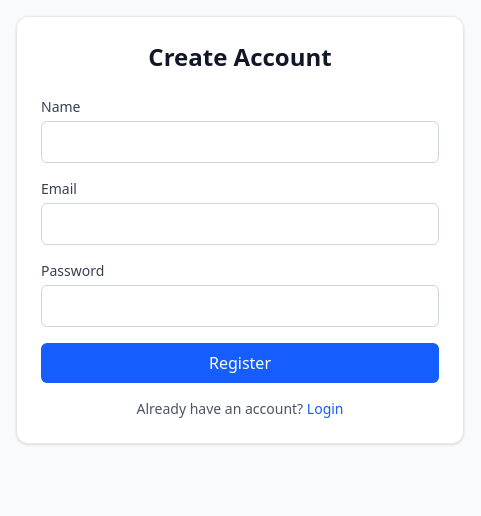
it: RegisterPage › failed registration › shows the server message, re-enables the button and does not redirect
Type "Test User" into the field below "Name" at (240, 142), box 41,121 -> 439,163
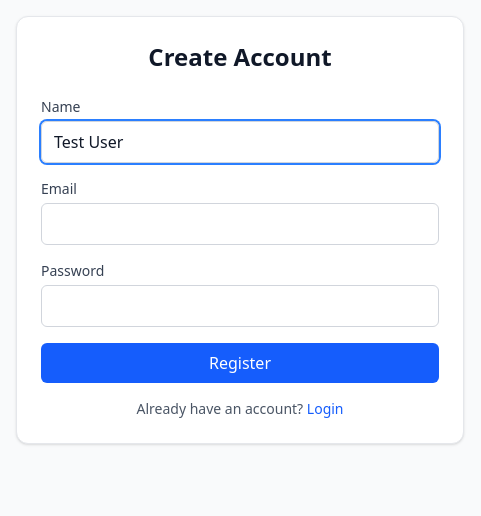
Type "test@example.com" into the field below "Email" at (240, 224), box 41,203 -> 439,245
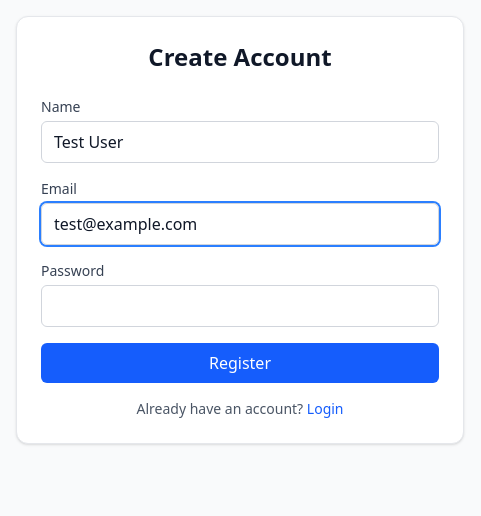
Type "secret123" into the password field at (240, 306), box 41,285 -> 439,327
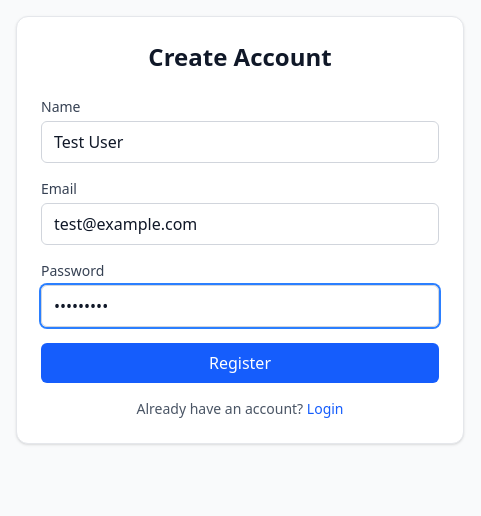
Click the button "Register" at (240, 363), box 41,343 -> 439,383
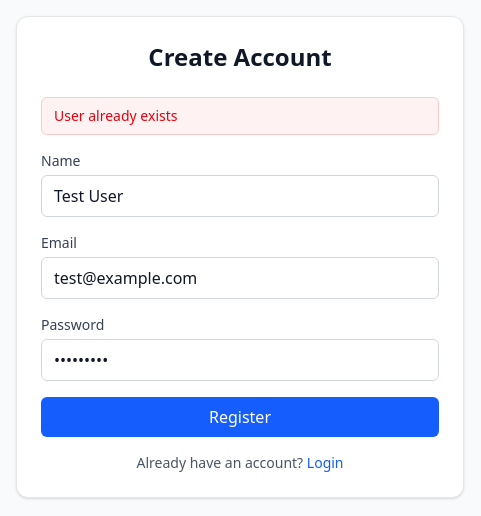
Expected: the button "Register" is enabled, 41,397 -> 439,437
Expected: the text "User already exists" is shown, 41,97 -> 439,135
